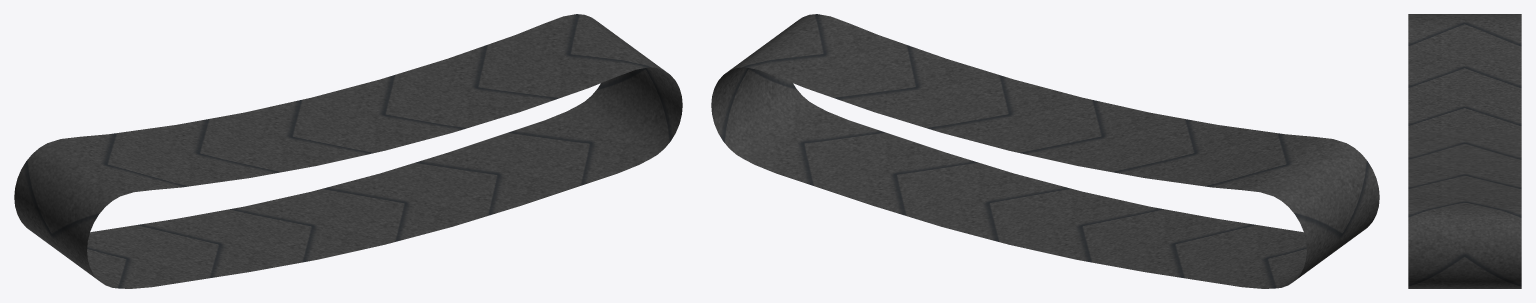
File: sagging_belt.gltf
The picture shows the model from 3 angles, left to right: view 1: azimuth 30°, elevation 25°; view 2: azimuth 150°, elevation 25°; view 3: azimuth 270°, elevation 25°; orthographic projection. The views are drawn at different scales.
Parts seen in each view (by area): view 1: belt; view 2: belt; view 3: belt.
Boxes of the visible parts, x1,y1,x2,y2 form: belt: (14,14,682,288); belt: (711,14,1379,288); belt: (1408,14,1521,288).
Bounding box in the file's own units: 2.36 × 0.4311 × 0.5.
Materials: 1 (1 with a texture image).
